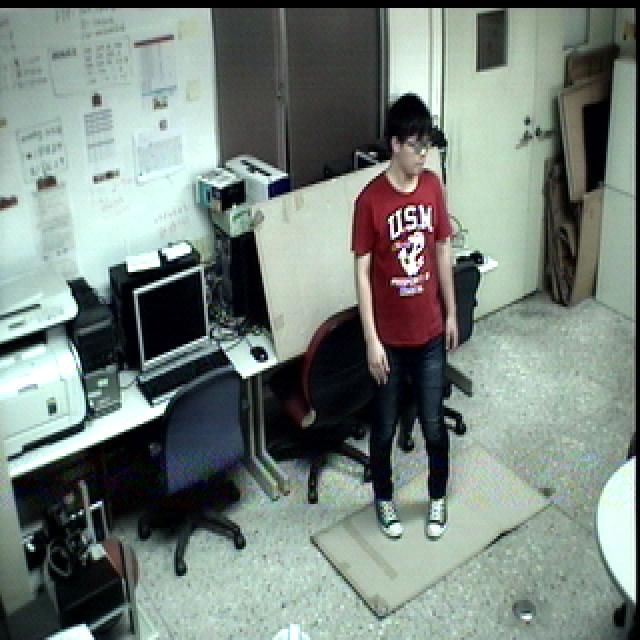stand: (342, 85, 463, 547)
